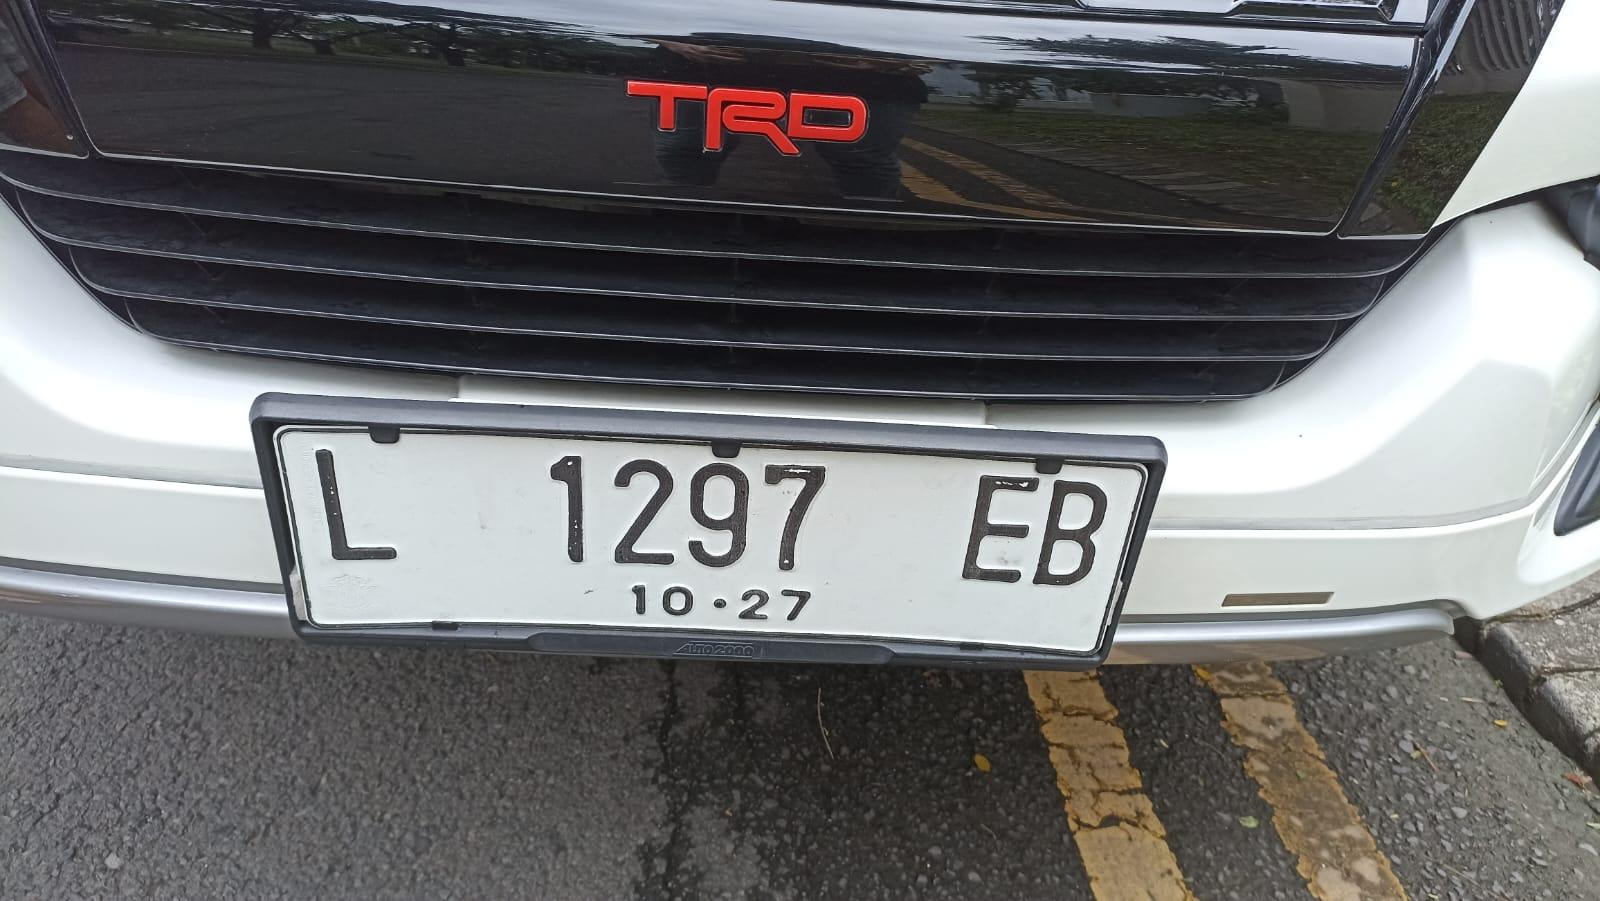plat: (251, 393, 1166, 669)
